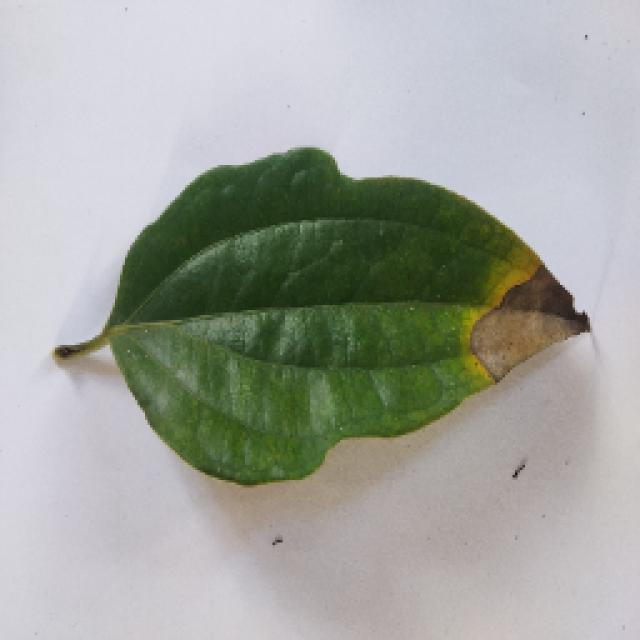footrot: (55, 148, 583, 480)
